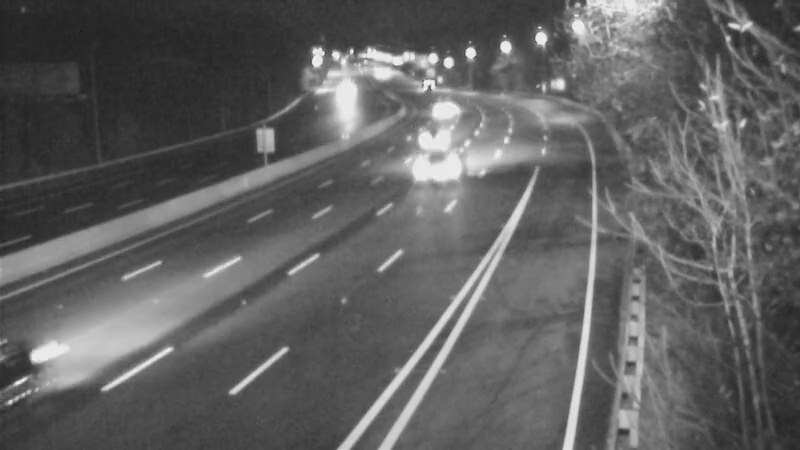vehicle: (398, 126, 478, 206), (403, 58, 453, 108), (421, 87, 471, 137), (405, 115, 455, 165), (318, 71, 368, 121)
